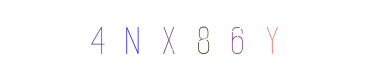4: (92, 0, 172, 80)
6: (155, 0, 235, 80)
8: (155, 0, 235, 80)
N: (126, 0, 206, 80)
X: (129, 0, 209, 80)
Y: (192, 0, 272, 80)
